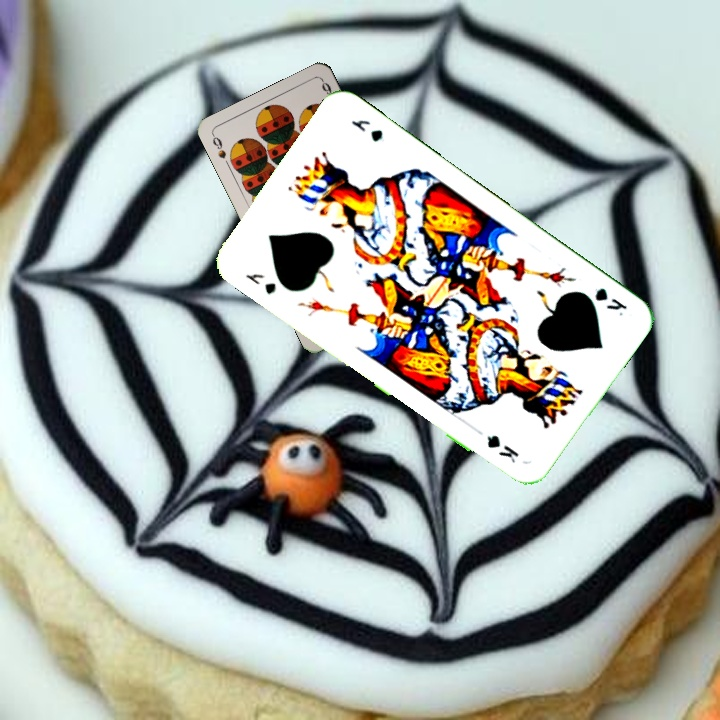GK: (590, 283, 630, 319), (241, 269, 279, 298)
S9: (208, 130, 229, 161)
